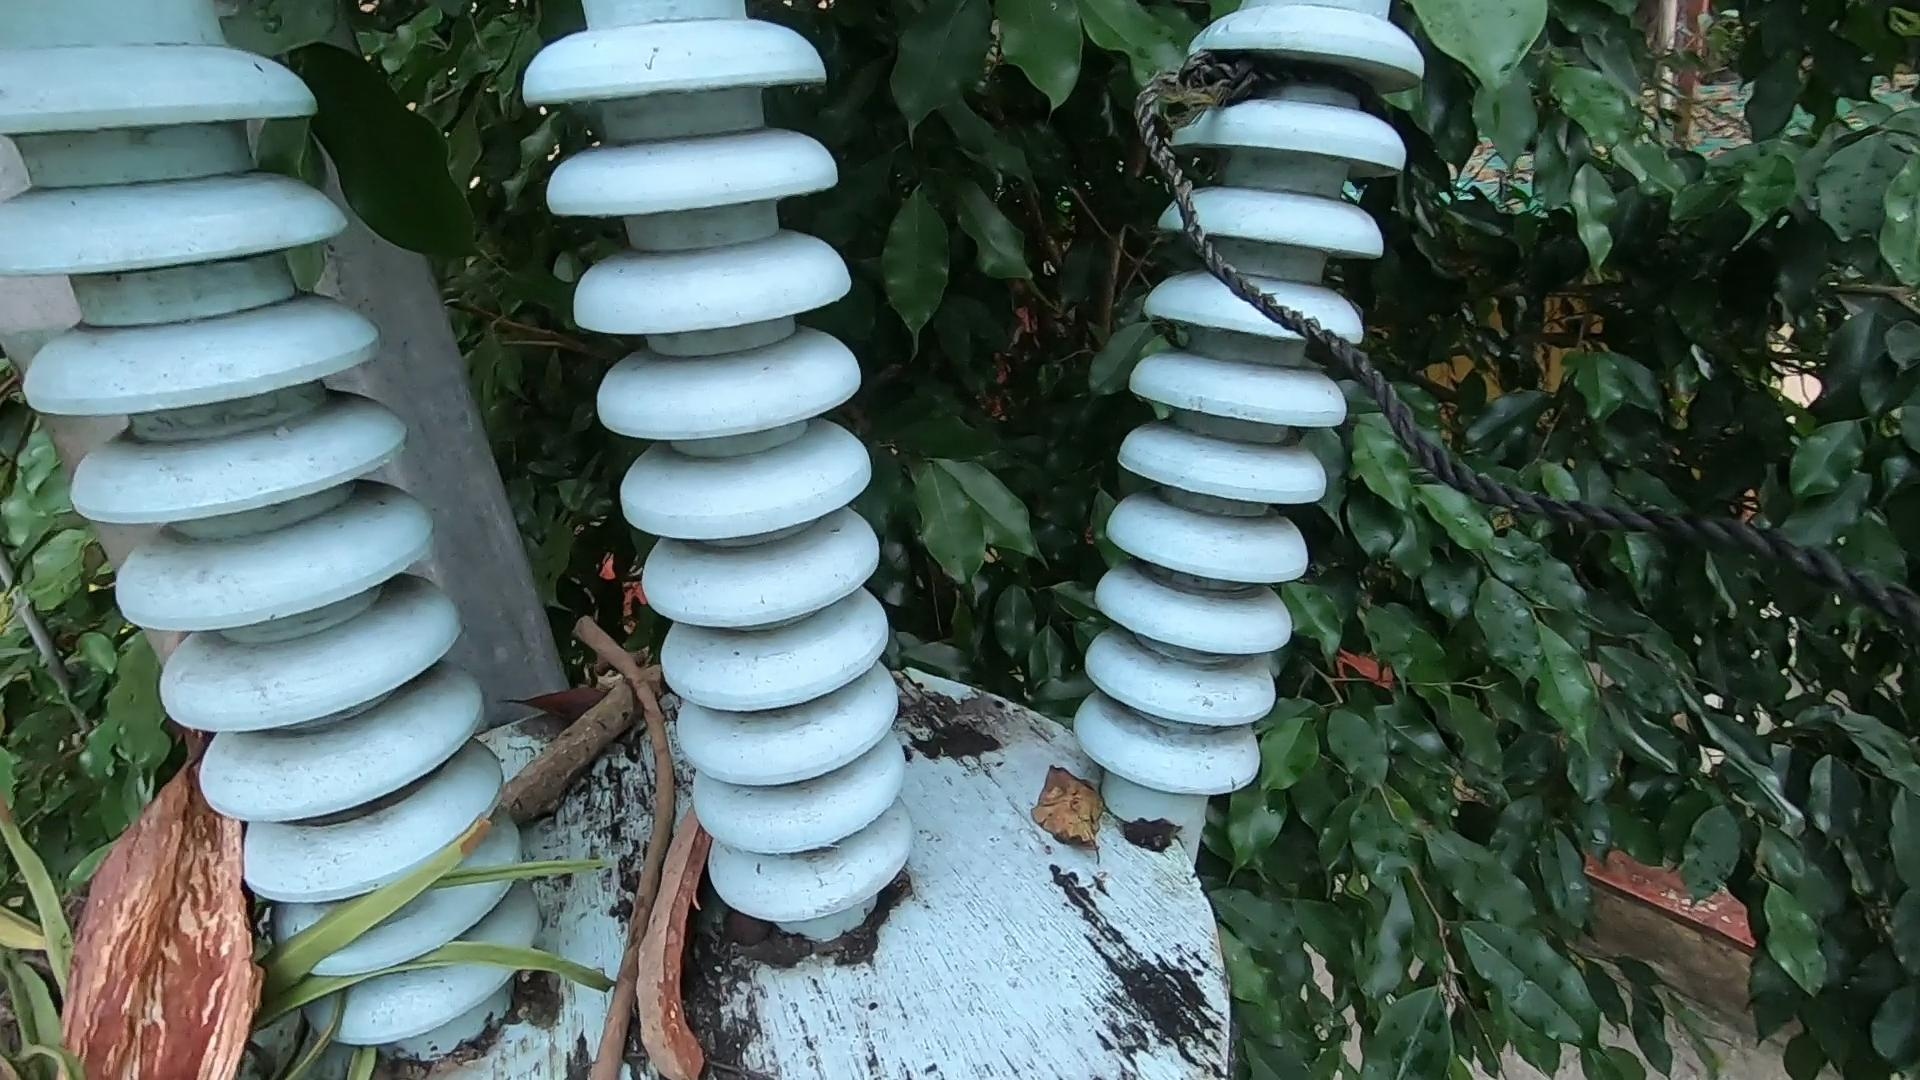branch with leaves: (28, 530, 770, 1080)
leaf: (1018, 735, 1141, 898)
mahogany fruit: (578, 655, 738, 1073), (116, 752, 320, 1080)
tree branch: (551, 576, 686, 1080)
